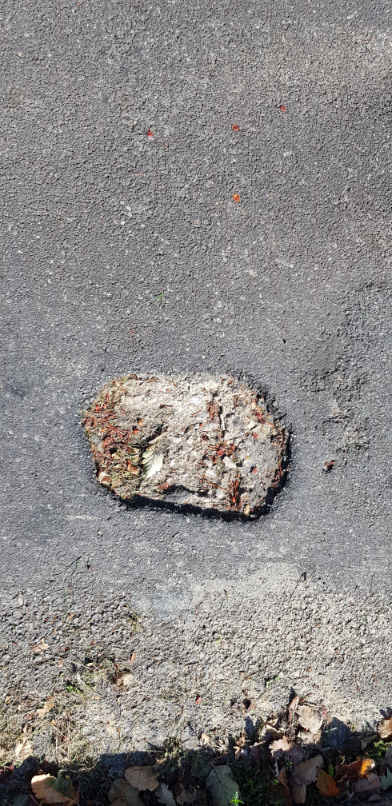pothole: (76, 361, 295, 530)
